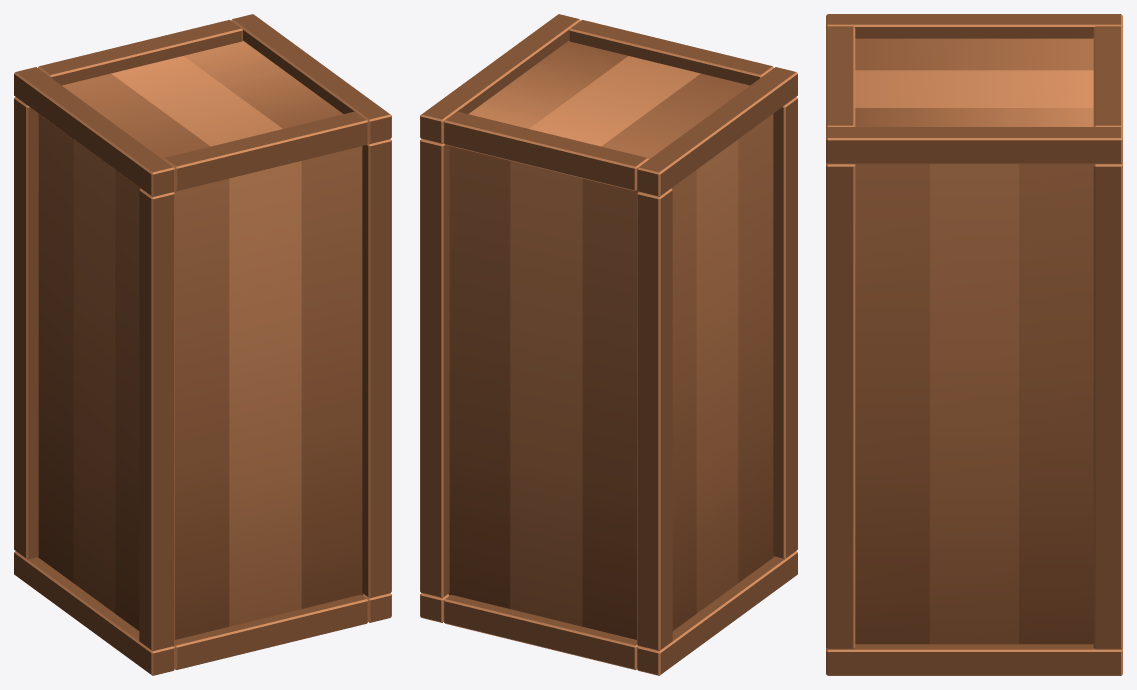
The model's file is mt_prop_box02.fbx.
3 views of the same model, side by side, from view 1: azimuth 30°, elevation 25°; view 2: azimuth 150°, elevation 25°; view 3: azimuth 270°, elevation 25° (orthographic). The views are drawn at different scales.
Parts seen in each view (by area): view 1: prop_box02; view 2: prop_box02; view 3: prop_box02.
Part boxes in pixels (box(x1,y1,x2,y2)): prop_box02: box(14, 14, 391, 675); prop_box02: box(420, 14, 797, 675); prop_box02: box(826, 14, 1122, 675).
Bounding box in the file's own units: 77.61 × 155 × 77.61.
